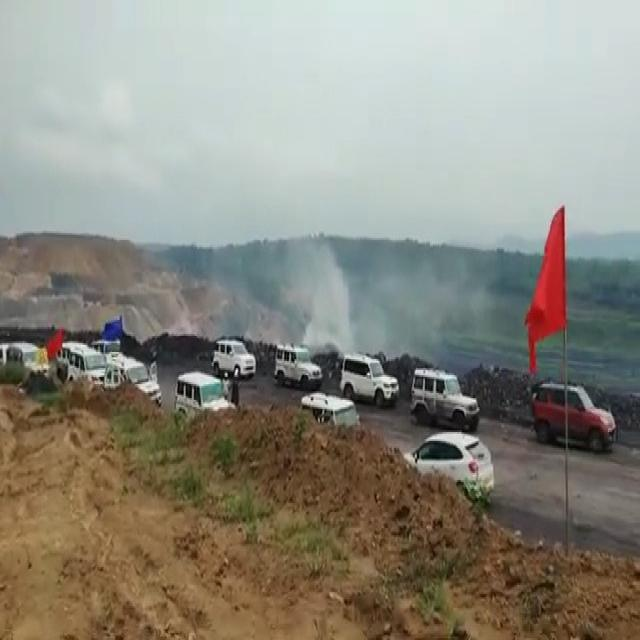light_vehicle: (411, 426, 497, 496), (409, 367, 479, 421), (338, 350, 400, 406), (174, 371, 235, 422), (304, 389, 358, 436), (276, 340, 324, 384), (213, 338, 254, 375)
